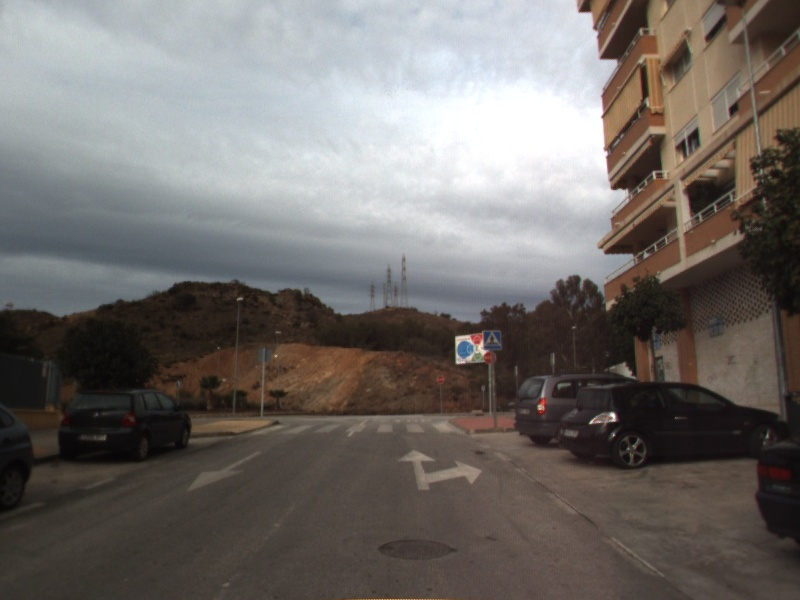STRAIGHT_RIGHT: (395, 447, 484, 492)
